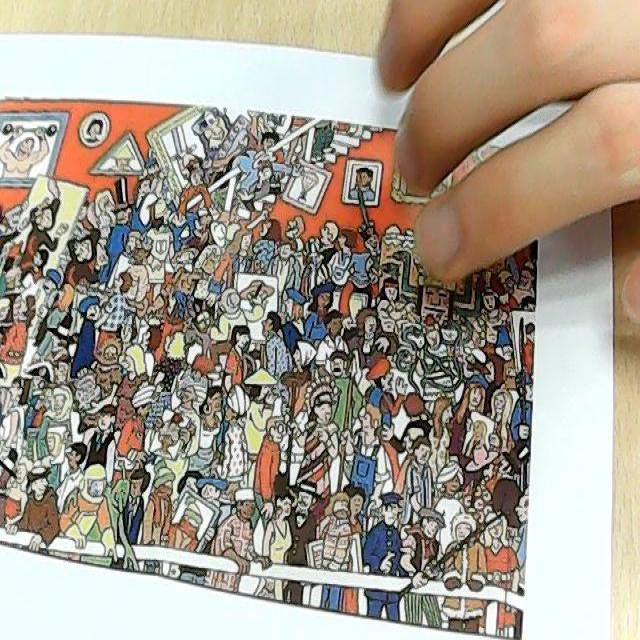waldo: (52, 346, 70, 391)
